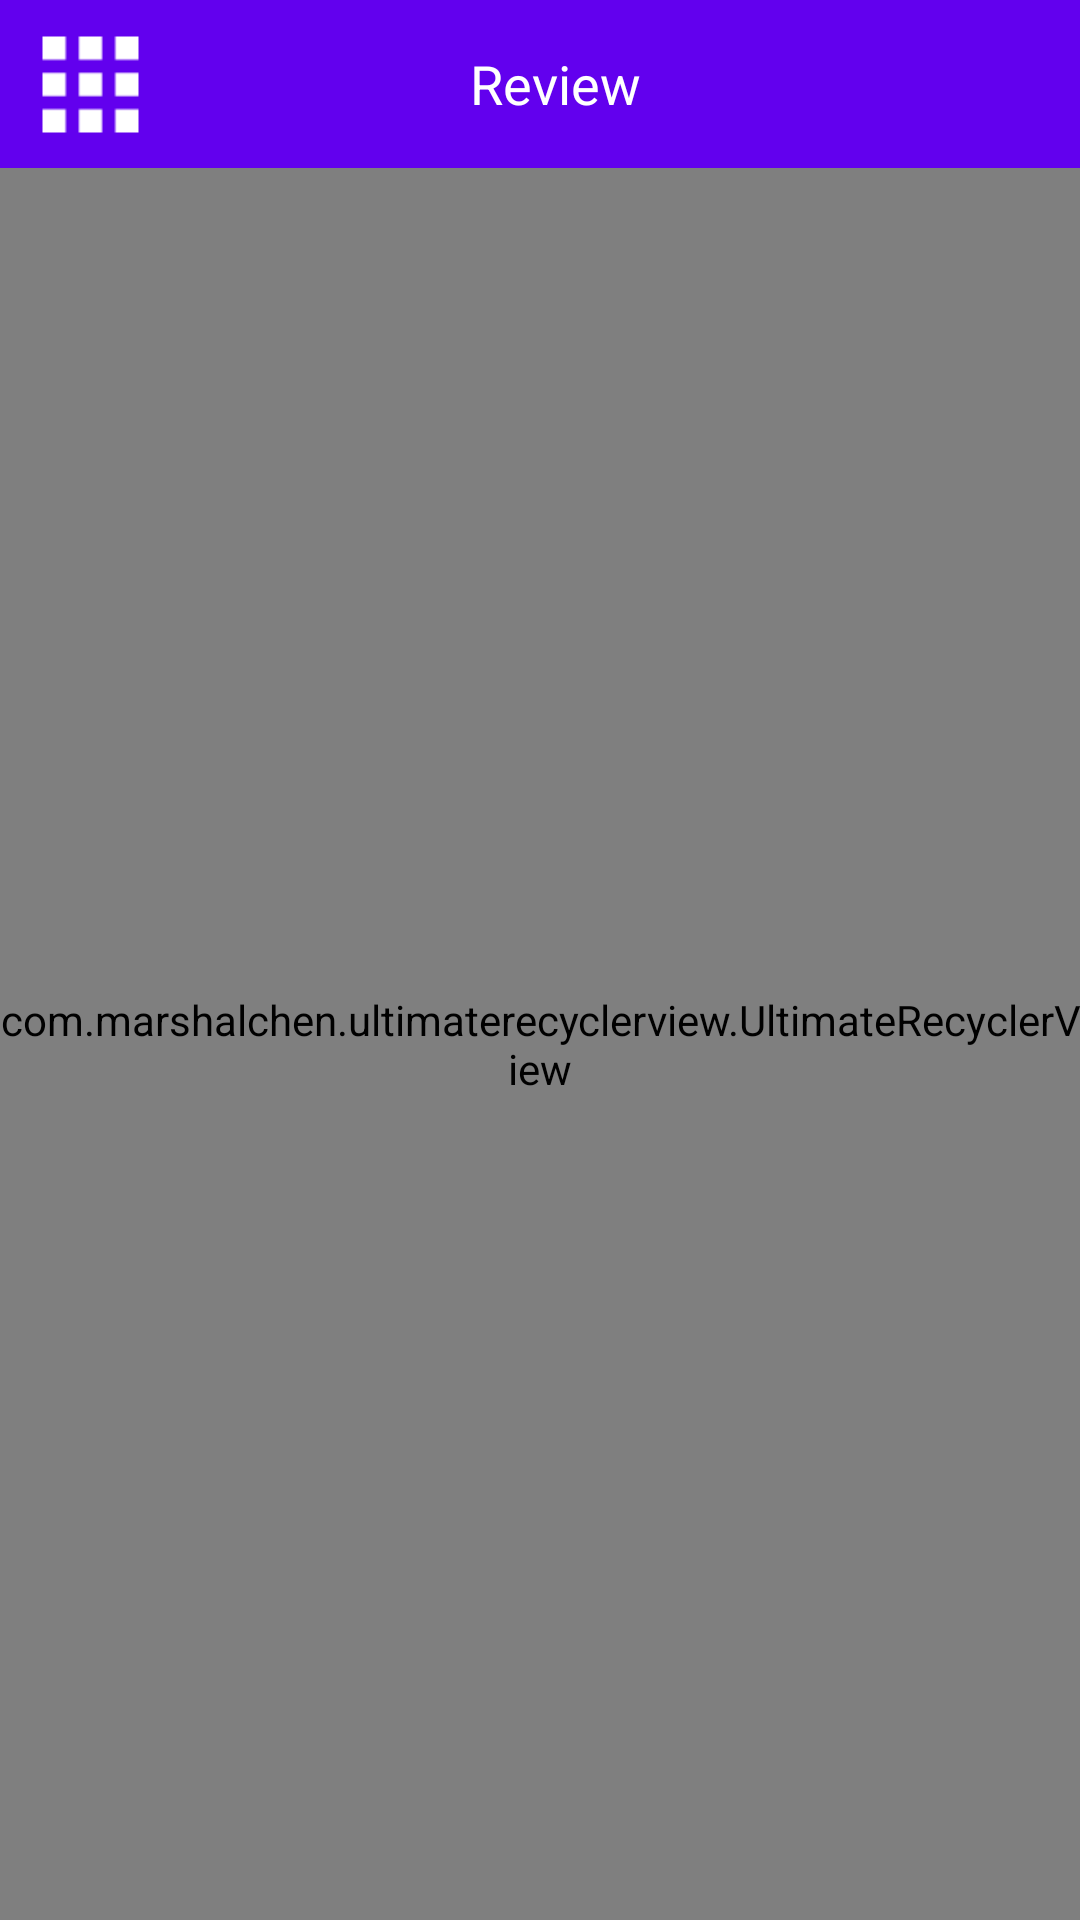

Icons on this 1080 x 1920 Android screen, each with the point to tap as (x,y):
grid: (90,84)
